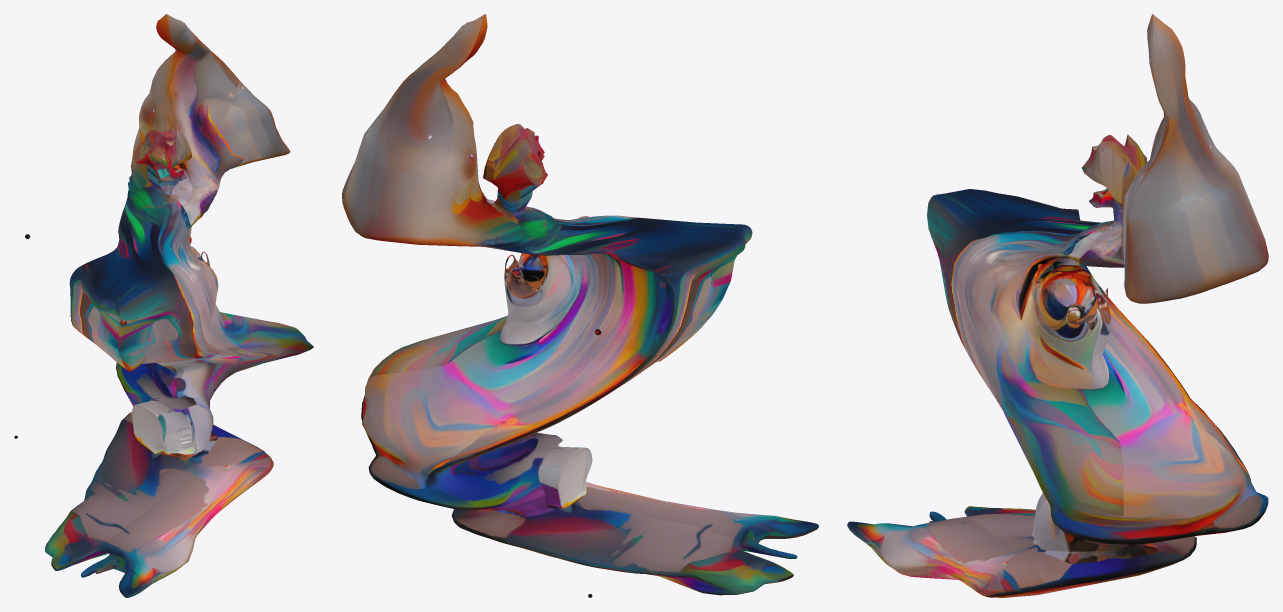
3 views of the same model, side by side, from view 1: azimuth 30°, elevation 25°; view 2: azimuth 150°, elevation 25°; view 3: azimuth 270°, elevation 25° (orthographic). The views are drawn at different scales.
Parts seen in each view (by area): view 1: model; view 2: model; view 3: model.
Boxes of the visible parts, box(x1,y1,x2,y2) form: model: box(14, 14, 313, 597); model: box(342, 14, 818, 597); model: box(847, 14, 1268, 597).
Size of the model in its own units: 41156 by 62083 by 38443.
1 material, 1 textured.
